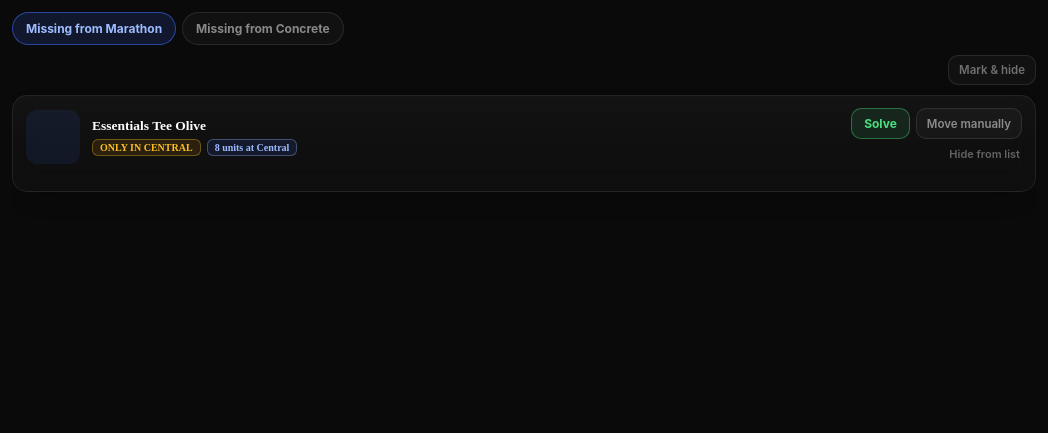
in scope — a Central-stranded tee solved at Marathon PE › the panel says what goes to the shop now and that Hub 2 follows; the button names the shop
Click the button "Solve".
click(880, 124)  # box [851,108,910,139]
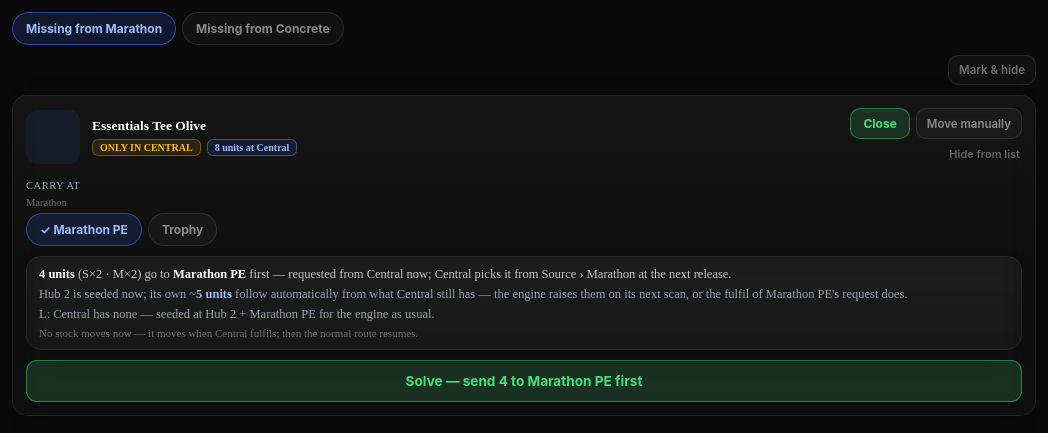
Check: the text "4 units (S×2 · M×2) go to Marathon PE first — requested from Central now; Central picks it from Source › Marathon at the next release" is shown, box [26,256,1022,350]
Check: the text "Hub 2 is seeded now; its own ~5 units follow automatically" is shown, box [39,287,1009,302]
Check: the text "L: Central has none — seeded at Hub 2 + Marathon PE" is shown, box [39,307,434,321]
